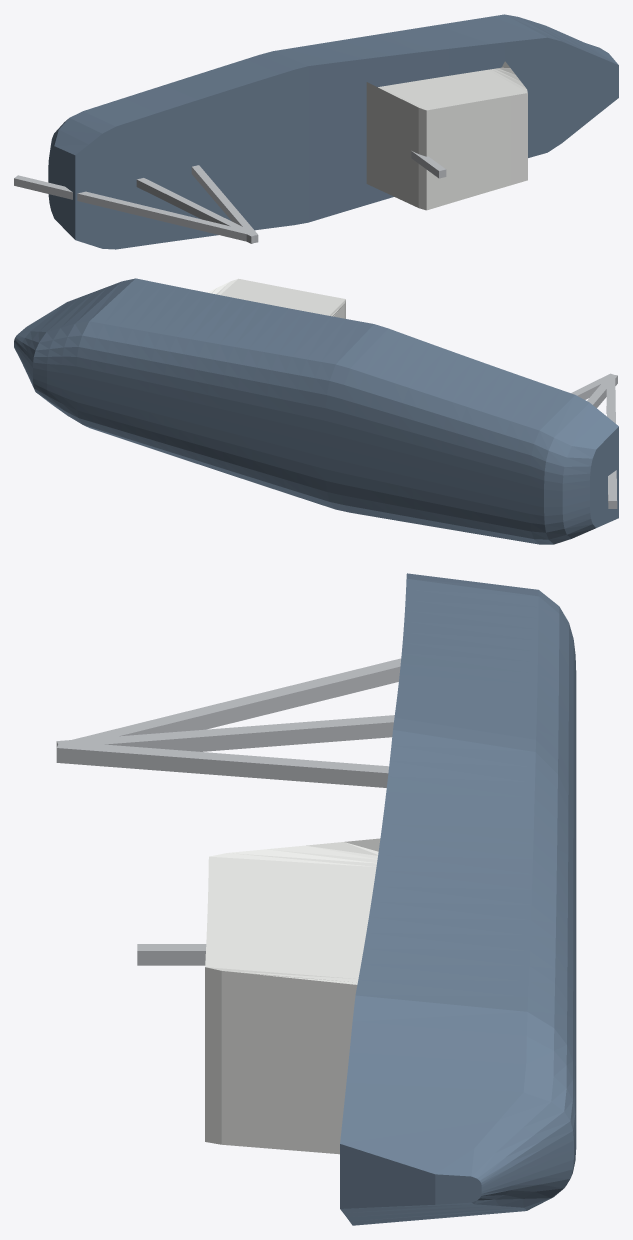
File: loft-trawler-highside.glb
The picture shows the model from 3 angles, top to bottom: view 1: azimuth 30°, elevation 25°; view 2: azimuth 150°, elevation 25°; view 3: azimuth 270°, elevation 25°; orthographic projection. The views are drawn at different scales.
Parts seen in each view (by area): view 1: loft-trawler-highside; view 2: loft-trawler-highside; view 3: loft-trawler-highside.
Boxes of the visible parts, x1=… form: loft-trawler-highside: x1=14, y1=14, x2=618, y2=249; loft-trawler-highside: x1=14, y1=278, x2=618, y2=544; loft-trawler-highside: x1=56, y1=573, x2=576, y2=1225.
Bounding box in the file's own units: 1.92 × 0.5037 × 0.7577.
